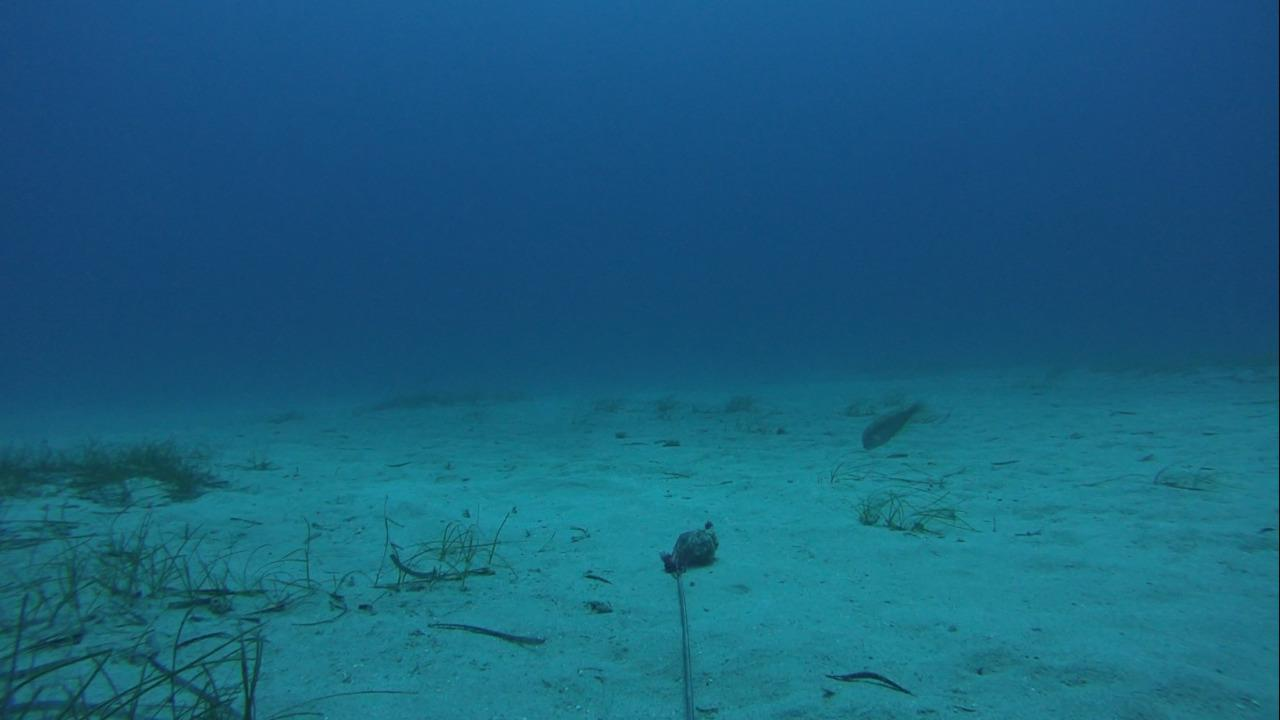raor: (859, 397, 924, 455)
